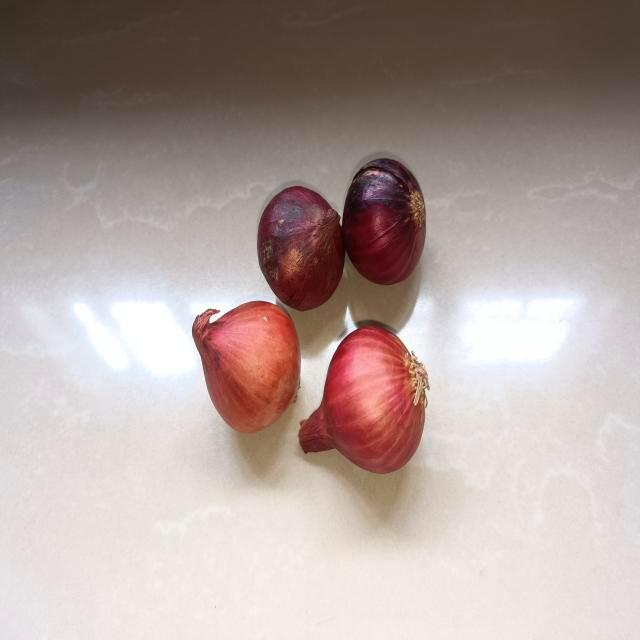onion: (295, 319, 436, 480), (184, 297, 303, 438), (253, 182, 346, 313), (341, 154, 429, 288)
